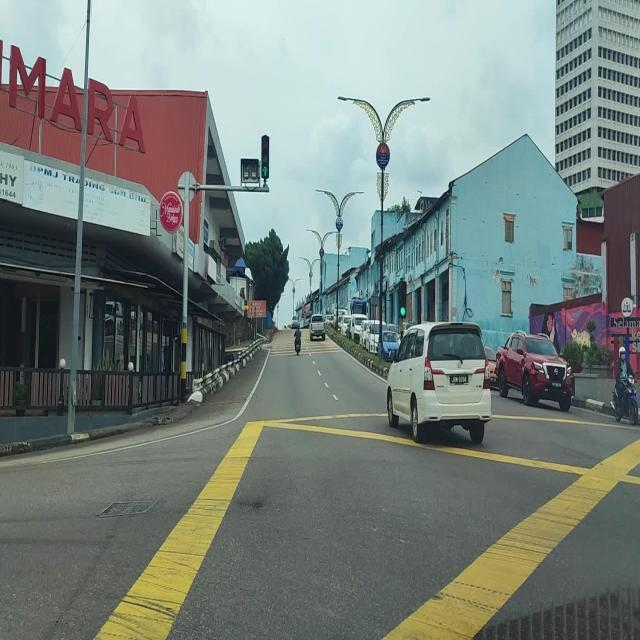green_light: (261, 134, 269, 179), (398, 280, 406, 318)
